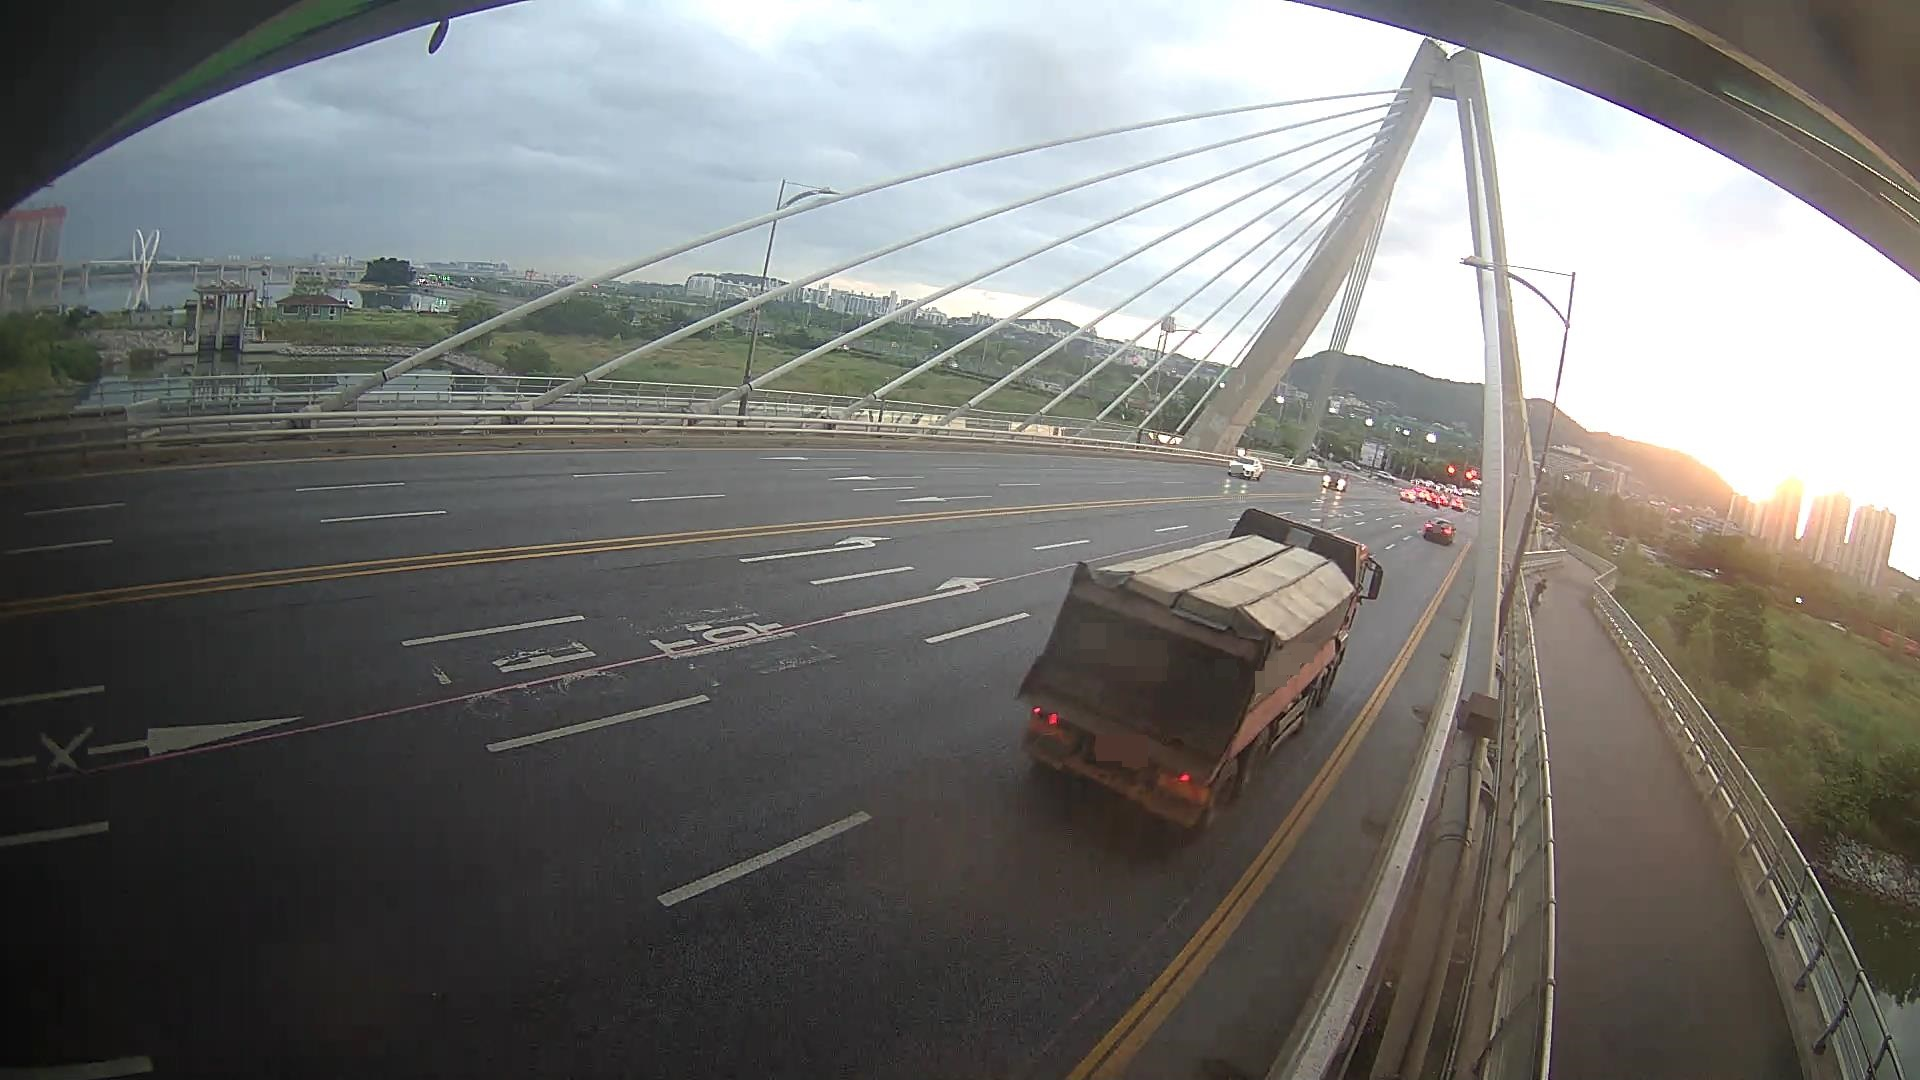정상차량: (1015, 508, 1383, 835)
